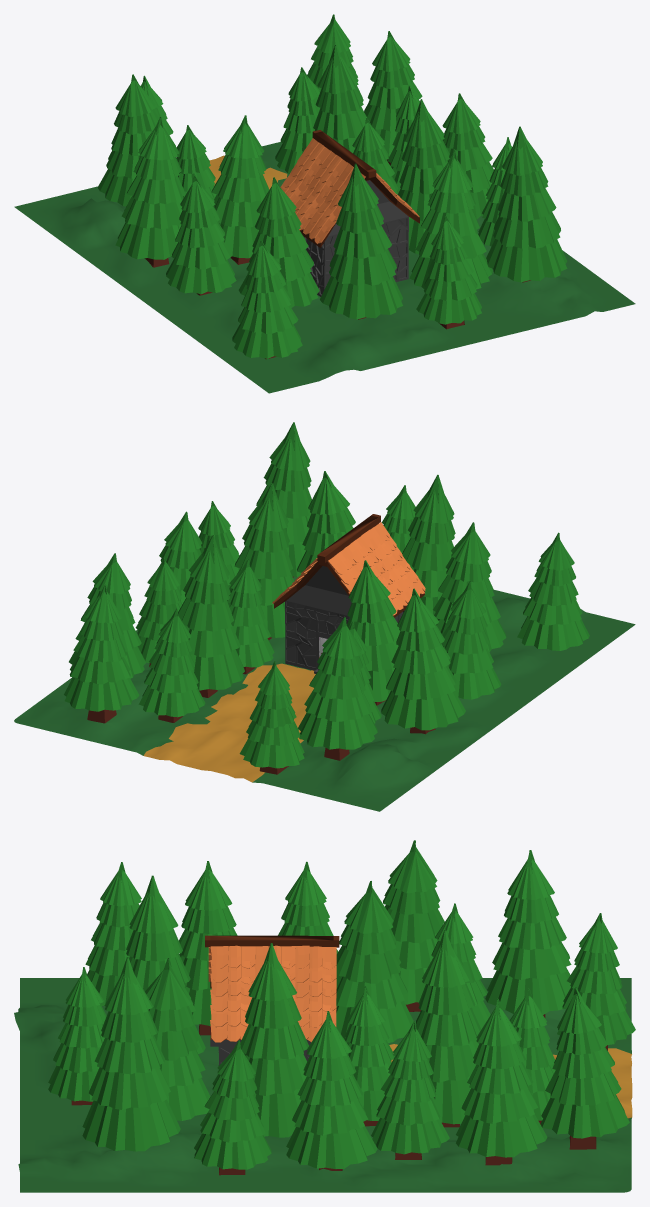
File: Mapsatu1(1).fbx
3 views of the same model, one above another, from view 1: azimuth 30°, elevation 25°; view 2: azimuth 150°, elevation 25°; view 3: azimuth 270°, elevation 25° (orthographic). The views are drawn at different scales.
Visible parts, largest first — view 1: Plane.022, Dataran, Plane.024; view 2: Plane.022, Dataran, Plane.024; view 3: Plane.022, Dataran, Plane.024.
Part boxes in pixels (x1,y1,x2,y2): Plane.022: (97,14,567,359); Dataran: (14,142,635,393); Plane.024: (280,130,419,296); Plane.022: (64,422,589,774); Dataran: (14,554,635,811); Plane.024: (272,514,425,673); Plane.022: (48,840,635,1175); Dataran: (14,978,632,1192); Plane.024: (205,935,339,1065).
Size of the model in its own units: 12061 by 5216 by 14771.
